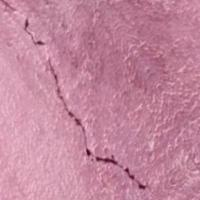crack: (1, 1, 149, 193)
